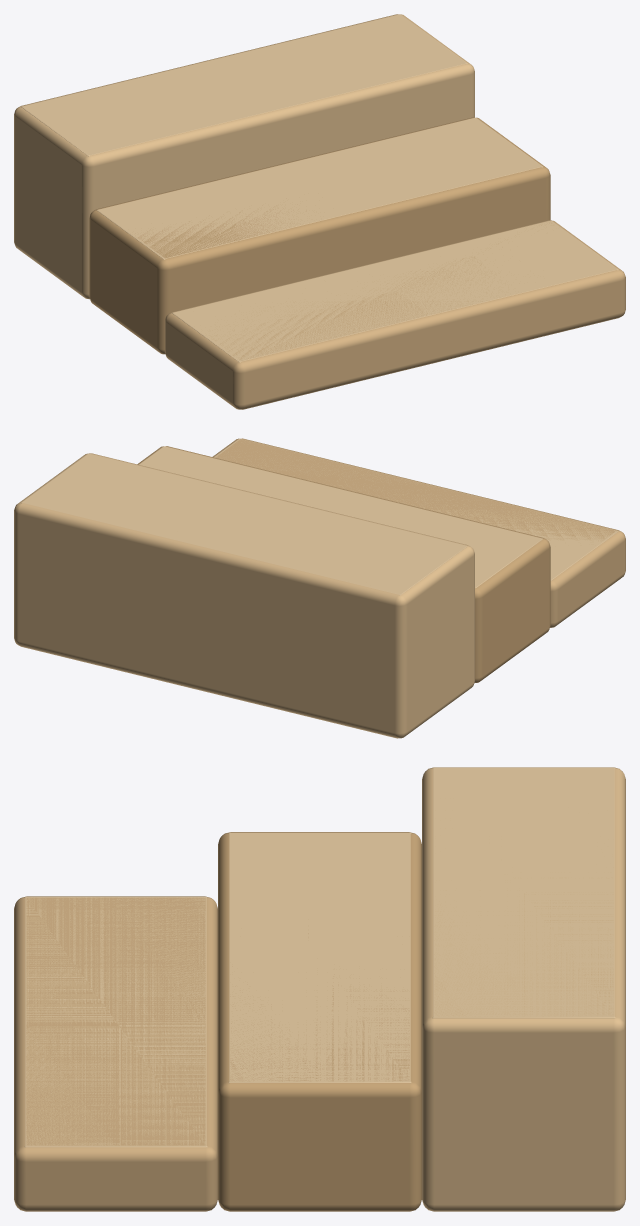
File: stone_stairs.glb
The picture shows the model from 3 angles, top to bottom: view 1: azimuth 30°, elevation 25°; view 2: azimuth 150°, elevation 25°; view 3: azimuth 270°, elevation 25°; orthographic projection. The views are drawn at different scales.
Parts seen in each view (by area): view 1: stone_stairs; view 2: stone_stairs; view 3: stone_stairs.
Boxes of the visible parts, x1,y1,x2,y2 form: stone_stairs: (14,14,625,409); stone_stairs: (14,438,625,738); stone_stairs: (14,767,625,1211).
Size of the model in its own units: 1 by 0.35 by 1.
